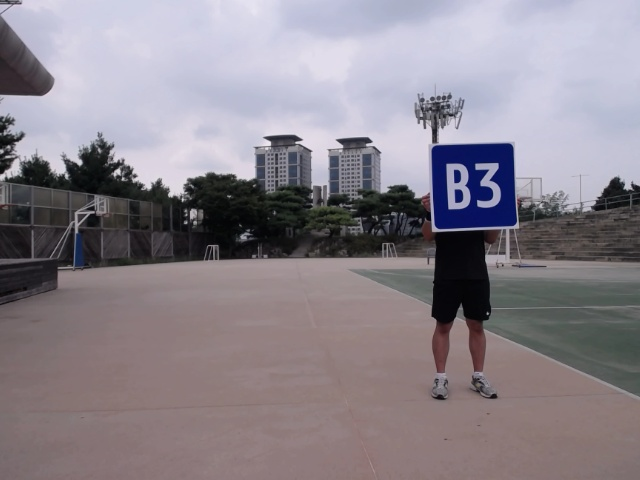delivery_b3: (430, 144, 520, 229)
